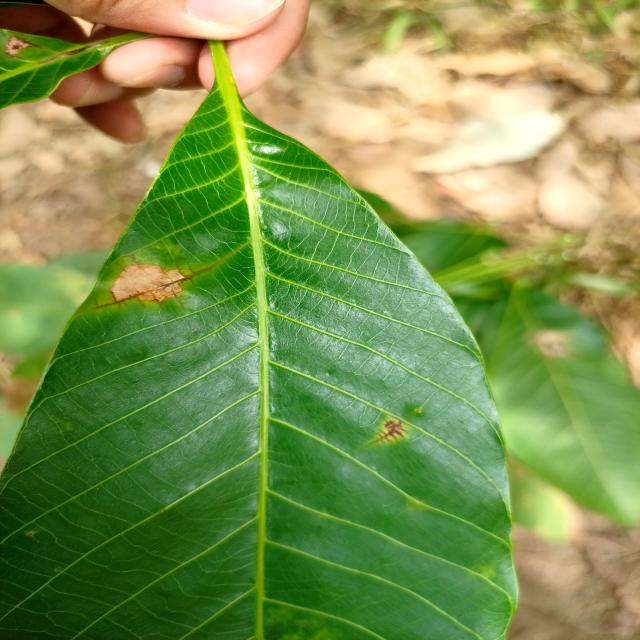Corynespora: (91, 262, 222, 310), (368, 419, 408, 445)
Leaf-Blight: (112, 265, 182, 302)
